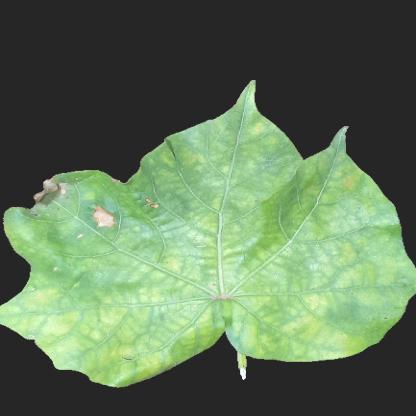curl_stage1: (43, 234, 233, 351), (238, 215, 381, 347), (178, 124, 270, 202), (120, 198, 238, 237), (292, 166, 366, 201), (377, 259, 411, 298)
